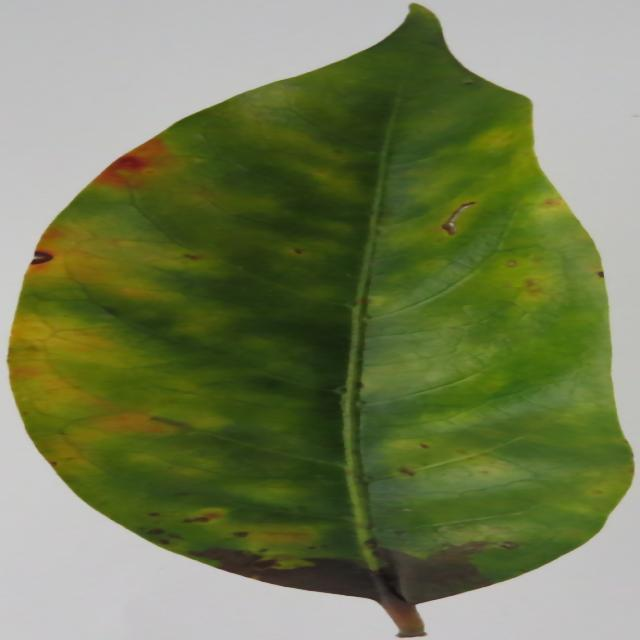DeficienciaNutricional-Fosforo: (9, 5, 632, 637)
